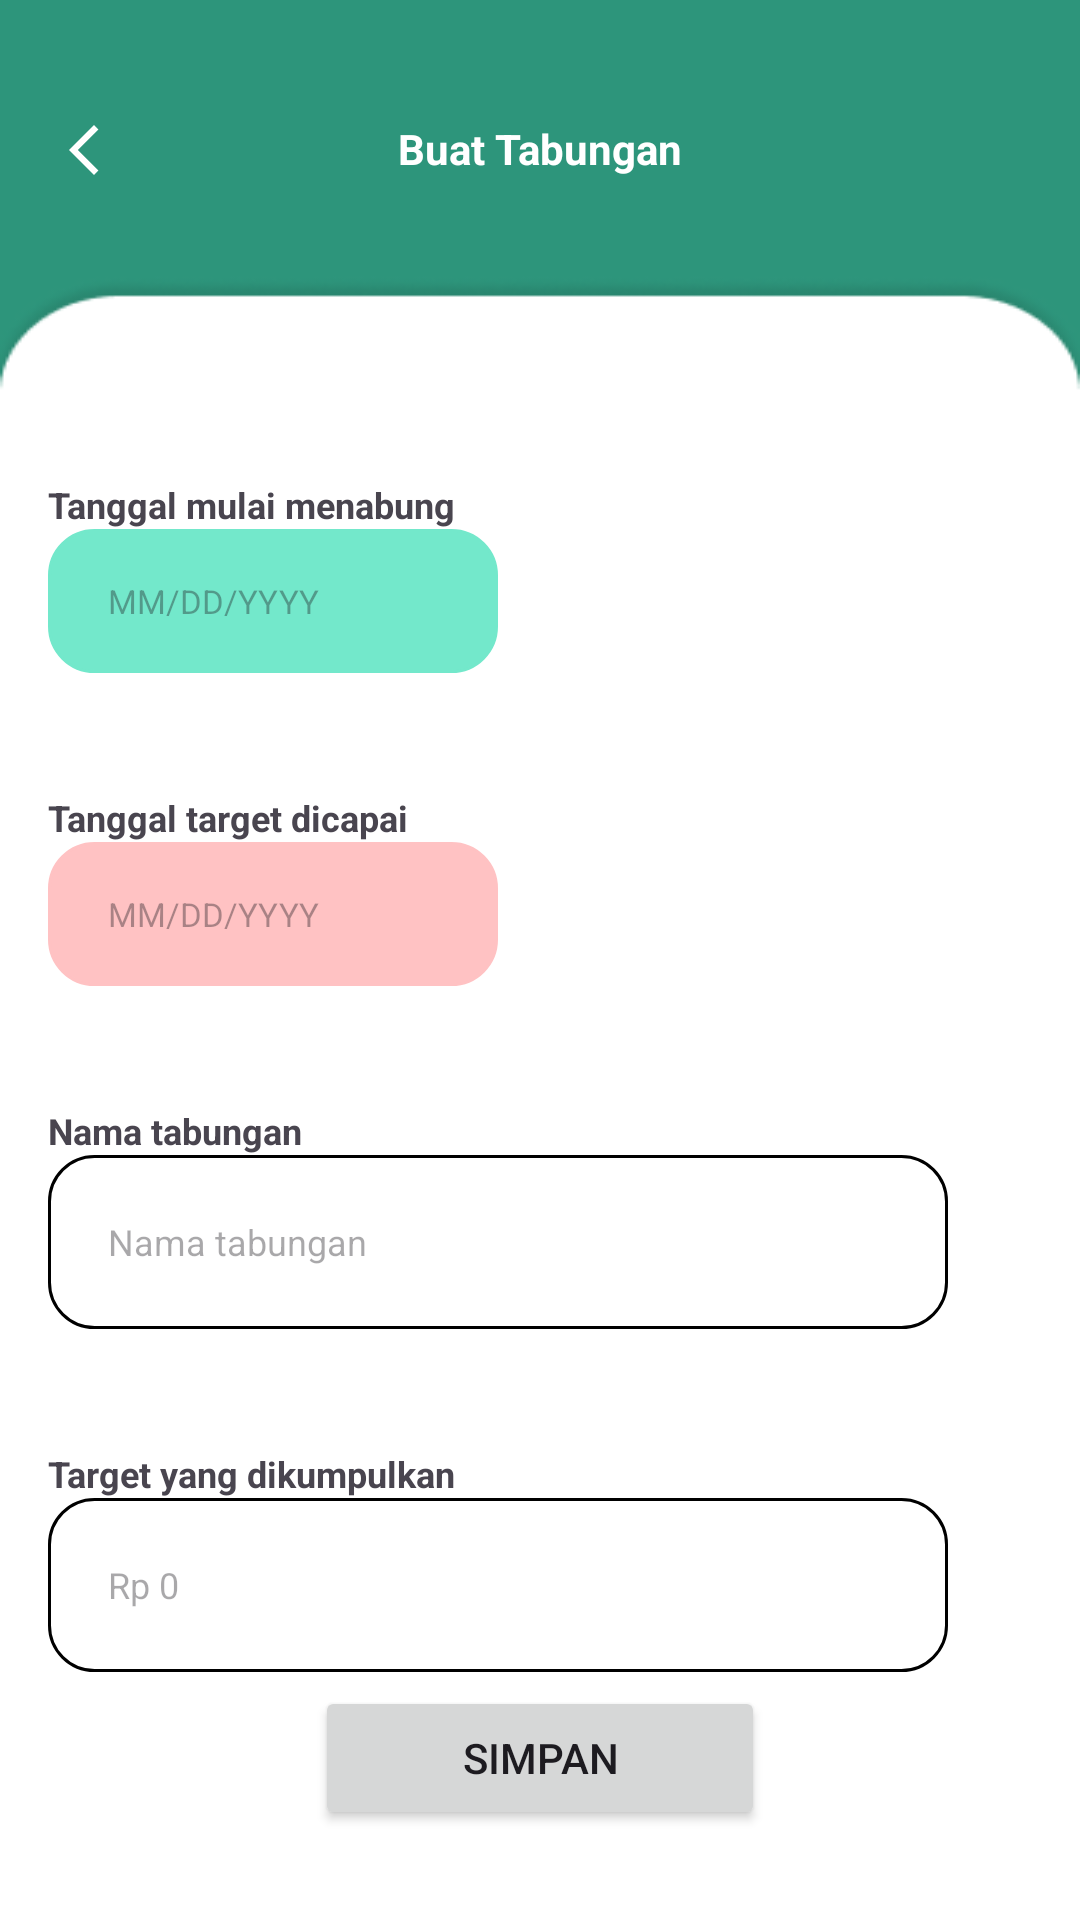

Screen size 1080 x 1920. Icon name, then its box in pixels as (x1, y1, x2, y2):
arrow back: (69, 125, 99, 175)
